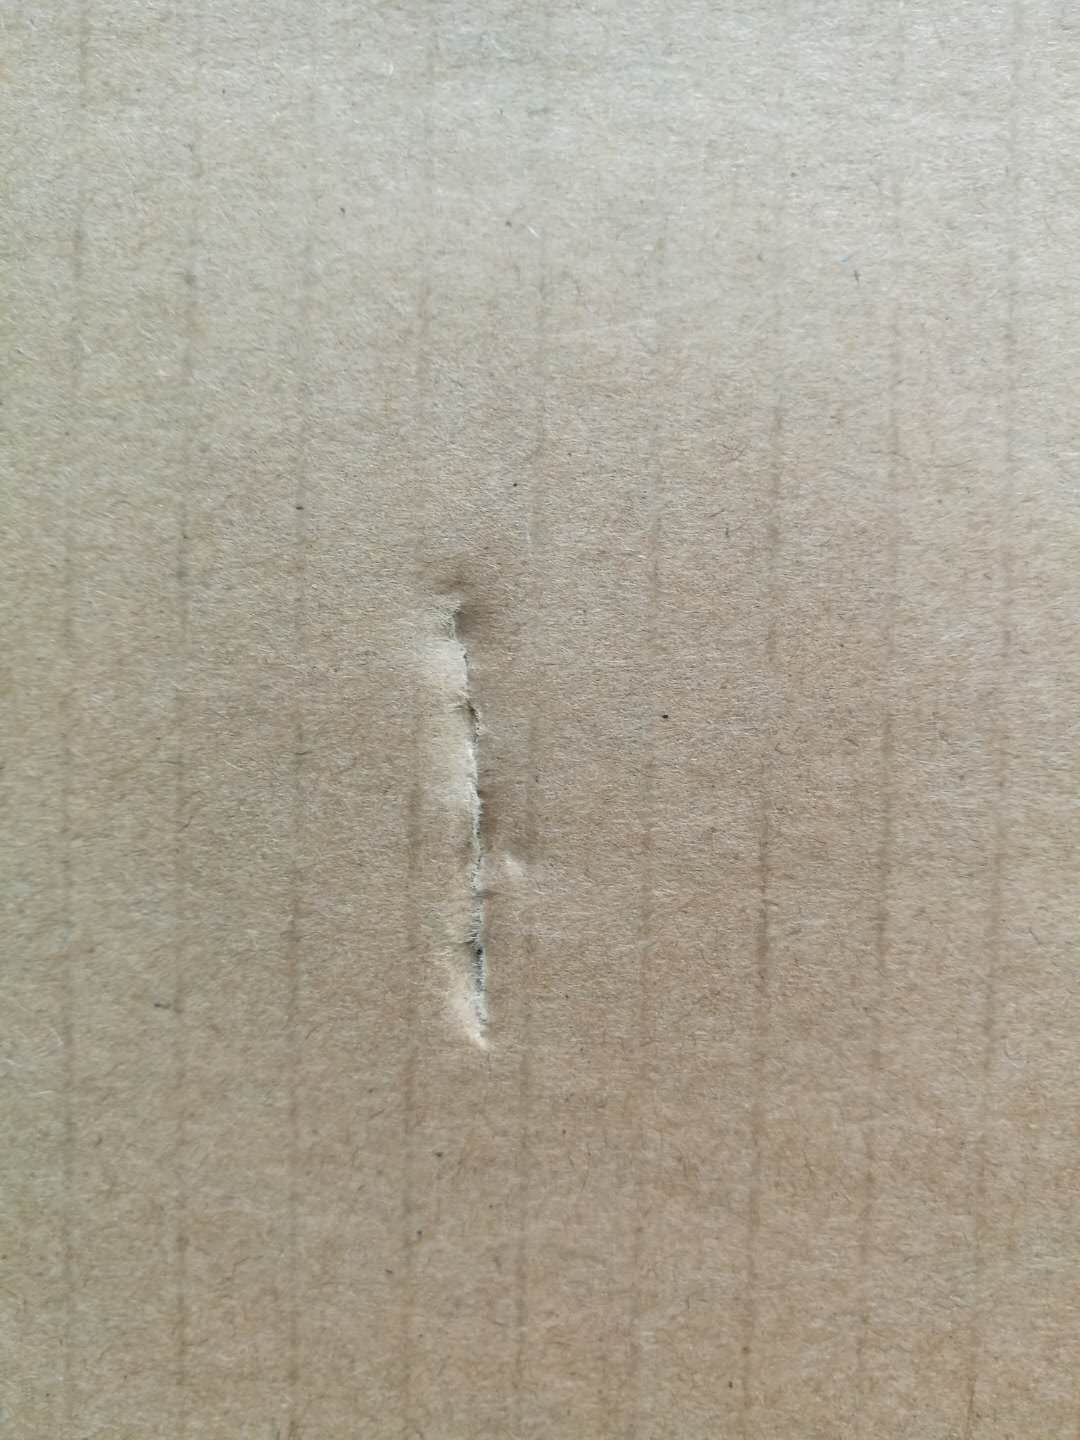defect: (363, 542, 587, 1078)
